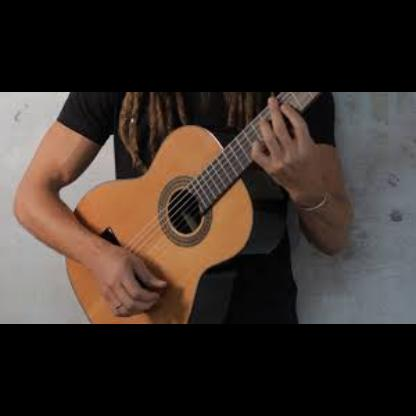acousticguitar: (64, 92, 320, 324)
